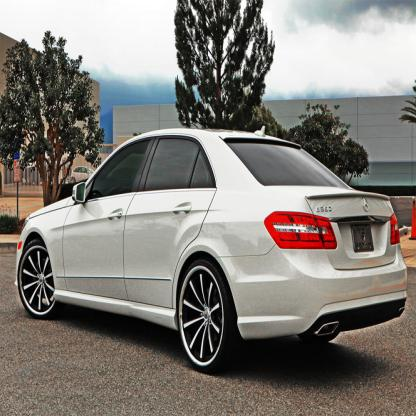Vehicle: (14, 124, 412, 374)
